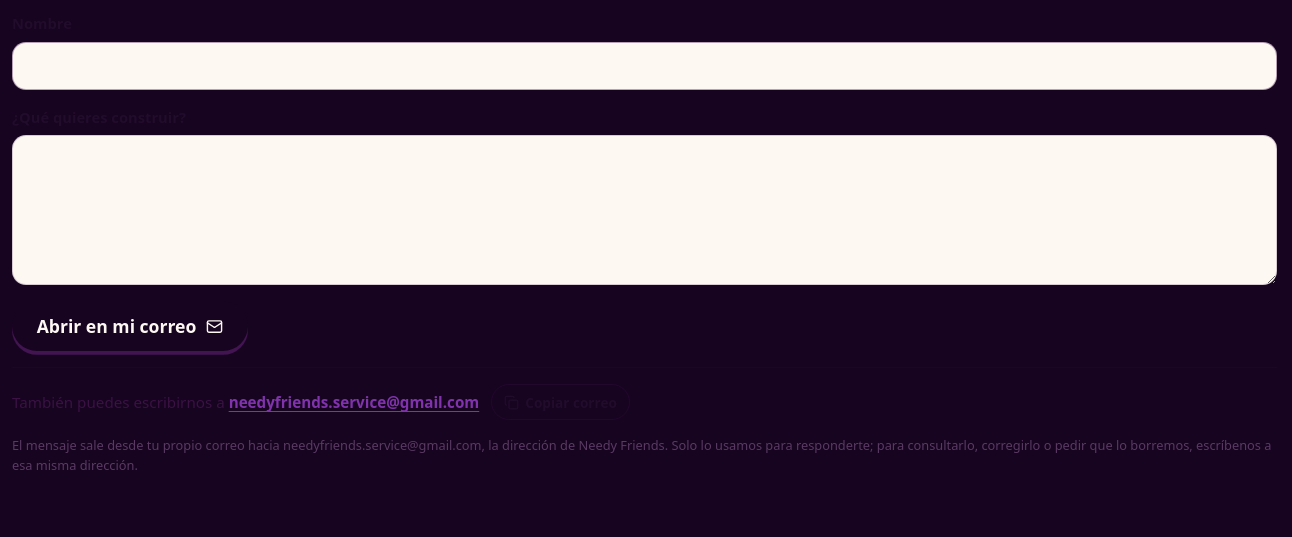
Scenario: contact form › validates both fields and focuses the first invalid one
Click the button "Abrir en mi correo" at point(130, 326), box [12,302,248,352]
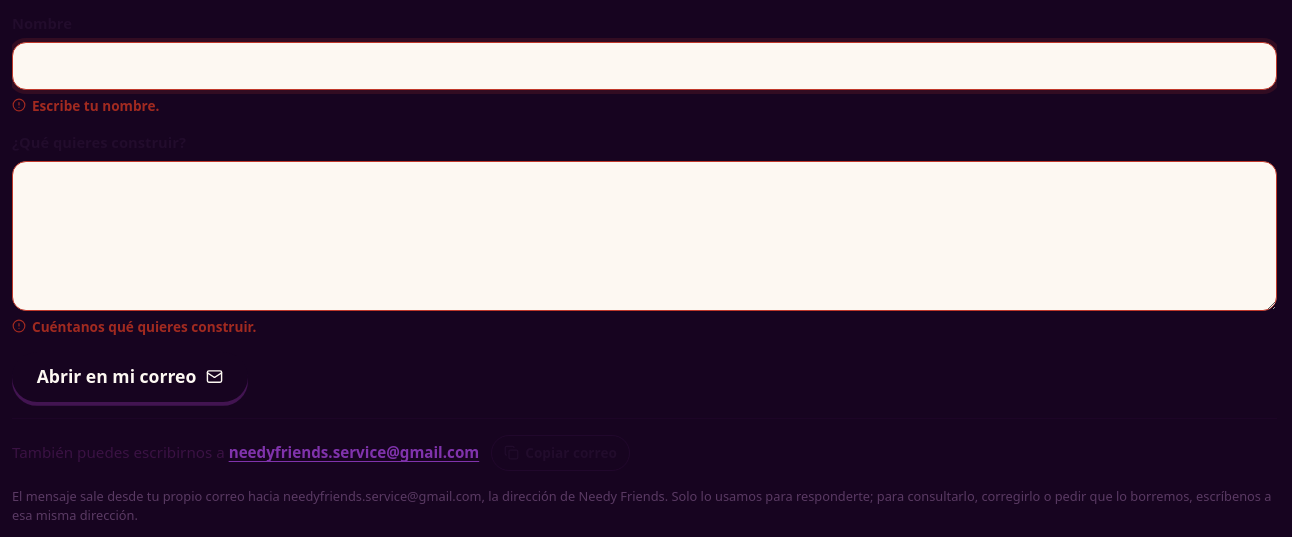
expect the text "Escribe tu nombre." is shown: met, box [12,96,159,115]
expect the text "Cuéntanos qué quieres construir." is shown: met, box [12,316,256,336]
